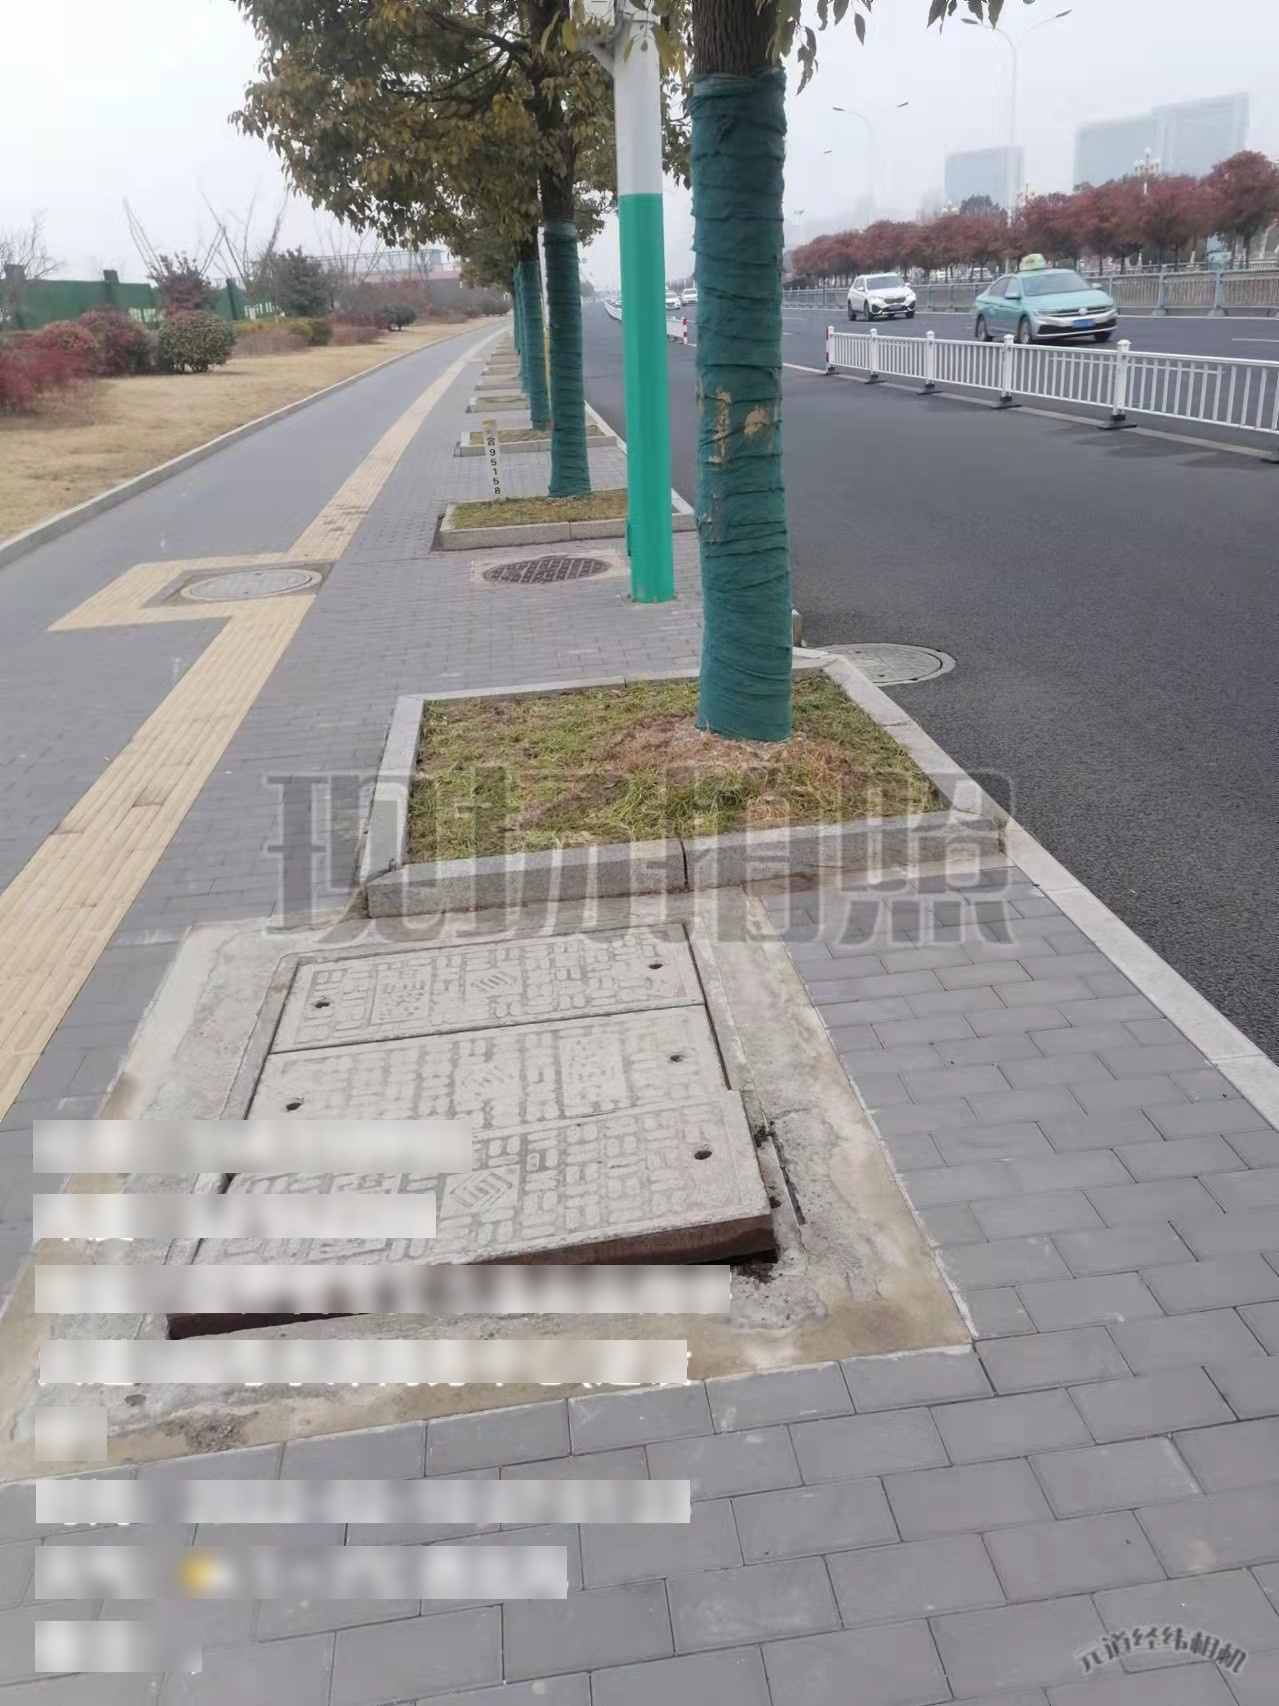good: (813, 637, 957, 686), (175, 566, 325, 600), (477, 553, 613, 587)
uncovered: (146, 919, 815, 1358)
